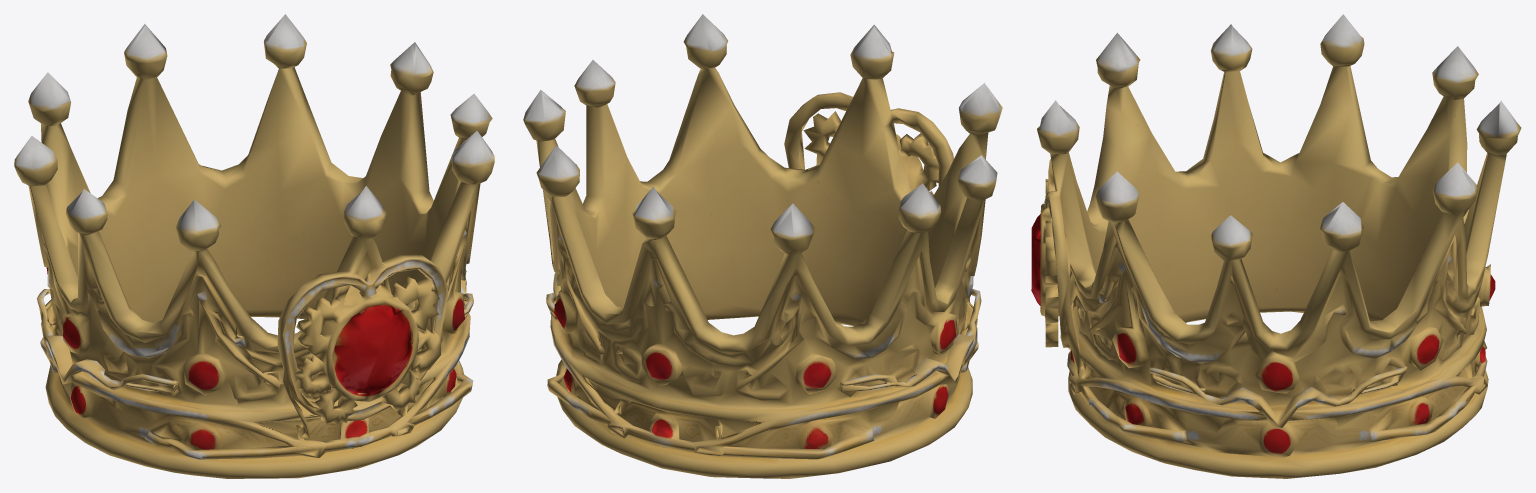
Rendered from Crown_T6.fbx.
3 views of the same model, side by side, from view 1: azimuth 30°, elevation 25°; view 2: azimuth 150°, elevation 25°; view 3: azimuth 270°, elevation 25° (orthographic).
Visible parts, largest first — view 1: Crown_T6; view 2: Crown_T6; view 3: Crown_T6.
Boxes of the visible parts, x1,y1,x2,y2 form: Crown_T6: (14, 14, 494, 478); Crown_T6: (523, 14, 1002, 478); Crown_T6: (1031, 14, 1521, 478).
Bounding box in the file's own units: 99.34 × 65.82 × 100.
1 material, 1 textured.
